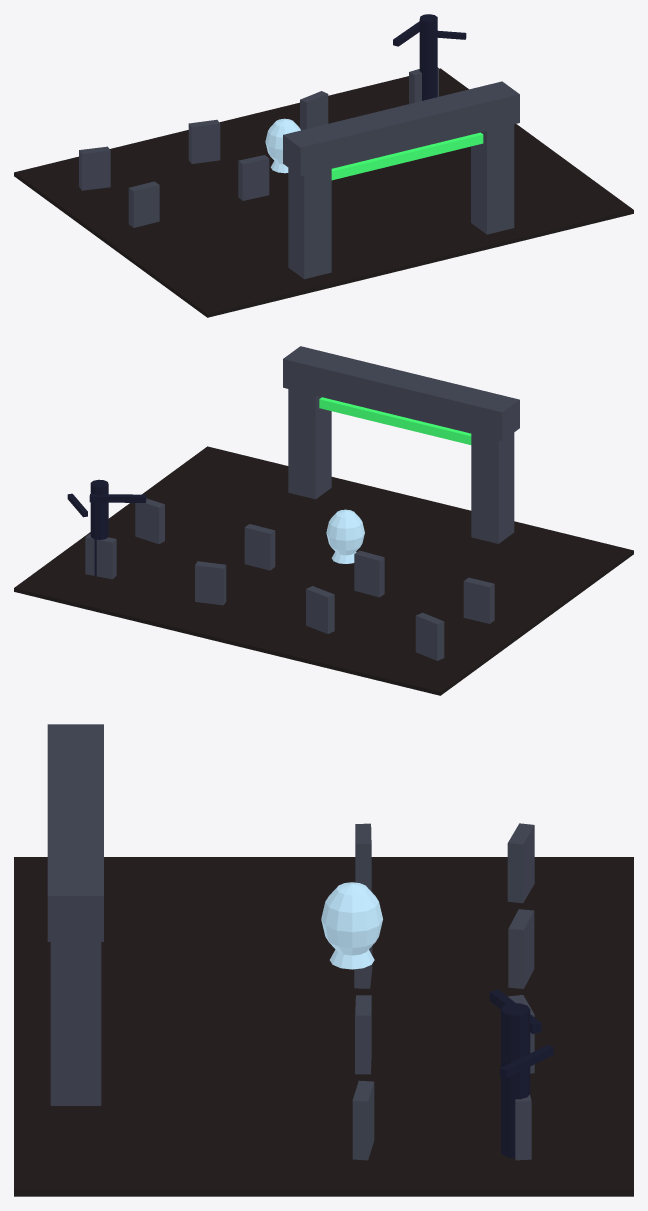
The model's file is idea-graveyard-transformed.glb.
The picture shows the model from 3 angles, top to bottom: view 1: azimuth 30°, elevation 25°; view 2: azimuth 150°, elevation 25°; view 3: azimuth 270°, elevation 25°; orthographic projection. The views are drawn at different scales.
Visible parts, largest first — view 1: park_soil, park_stone, park_dark, park_neon_green, park_pale; view 2: park_soil, park_stone, park_neon_green, park_dark, park_pale; view 3: park_soil, park_stone, park_dark, park_pale.
Boxes of the visible parts, x1,y1,x2,y2 form: park_soil: [14, 68, 633, 317]; park_stone: [79, 67, 519, 279]; park_dark: [393, 14, 466, 100]; park_neon_green: [331, 132, 483, 180]; park_pale: [265, 118, 300, 173]; park_soil: [14, 446, 633, 695]; park_stone: [85, 346, 519, 660]; park_neon_green: [319, 397, 471, 444]; park_dark: [67, 479, 146, 576]; park_pale: [326, 509, 364, 563]; park_soil: [14, 857, 633, 1196]; park_stone: [47, 724, 534, 1160]; park_dark: [489, 989, 553, 1158]; park_pale: [321, 882, 382, 969].
Size of what is drawn, in the model's own units: 14 by 4.3 by 11.
